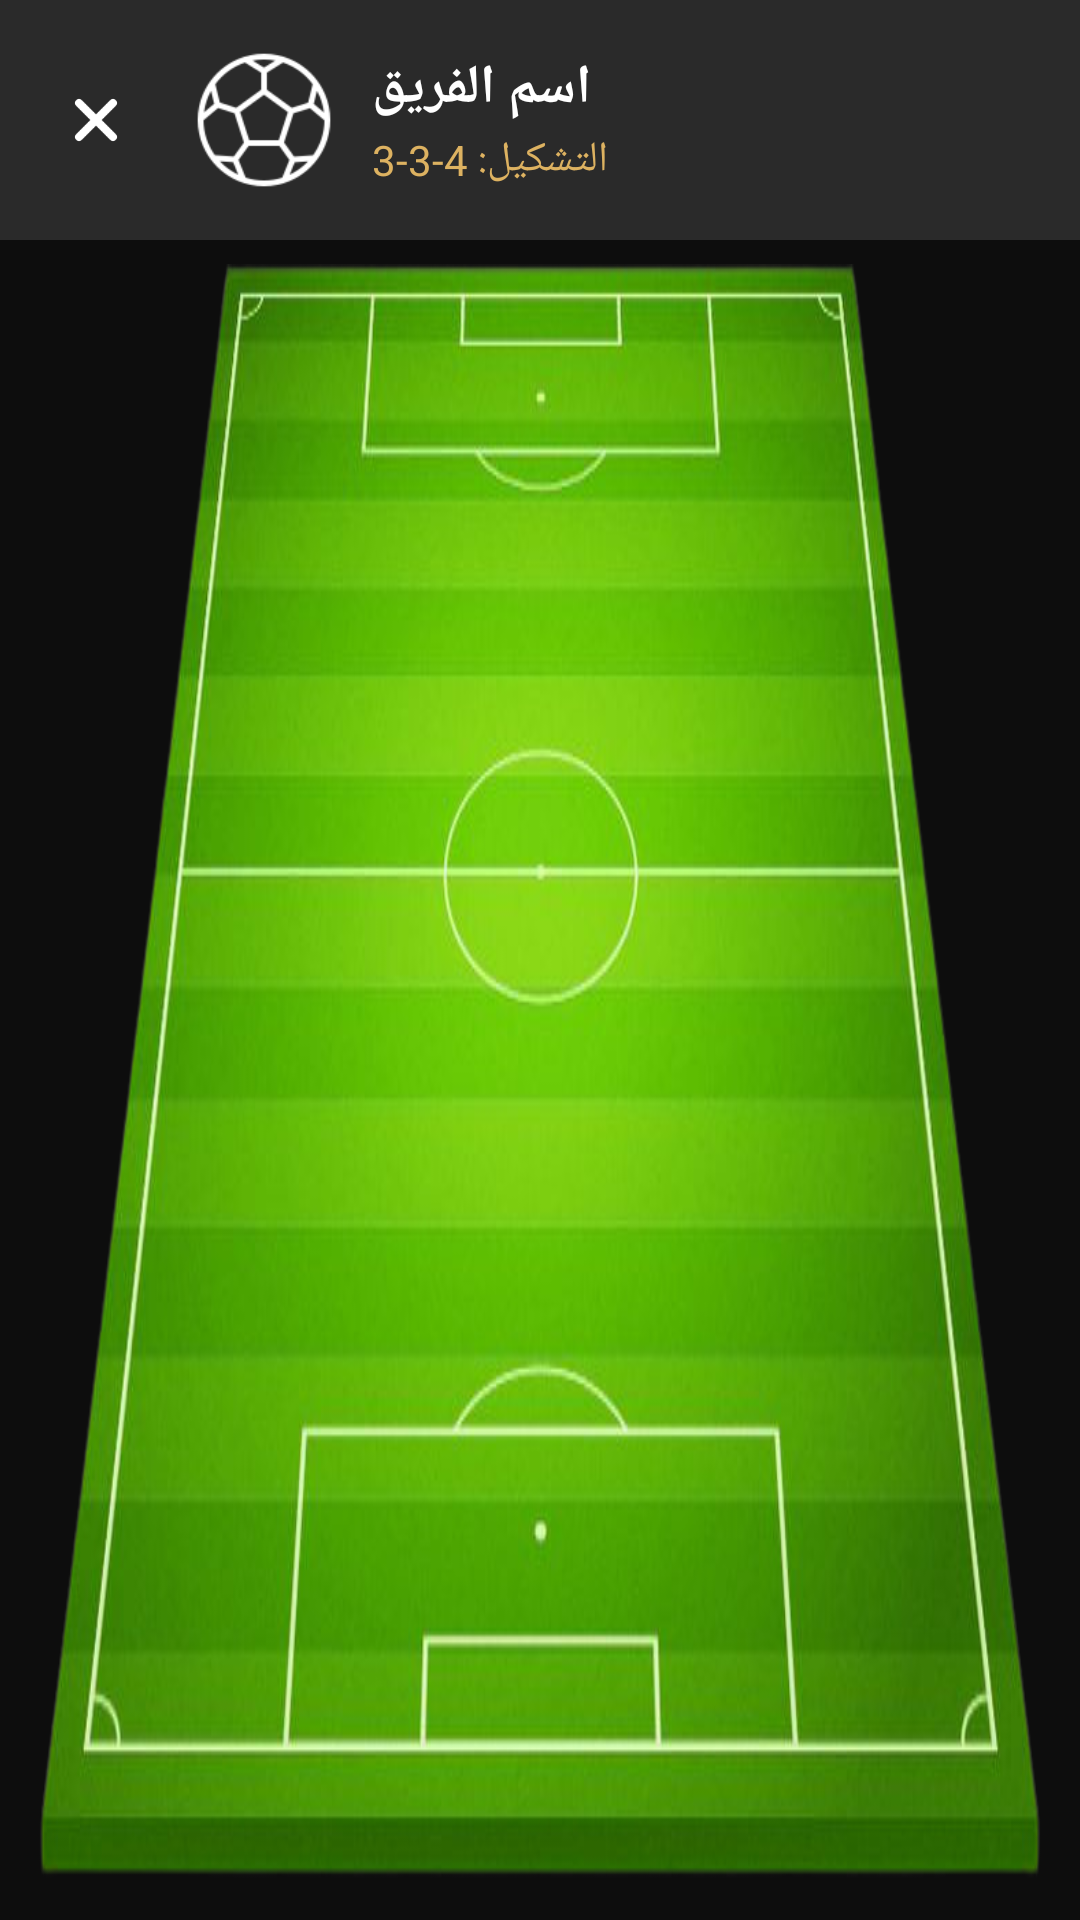

Point at icon controls on the screen. Image size 1080px×1920px, points as (x=x, y=y).
close: (x=96, y=120)
